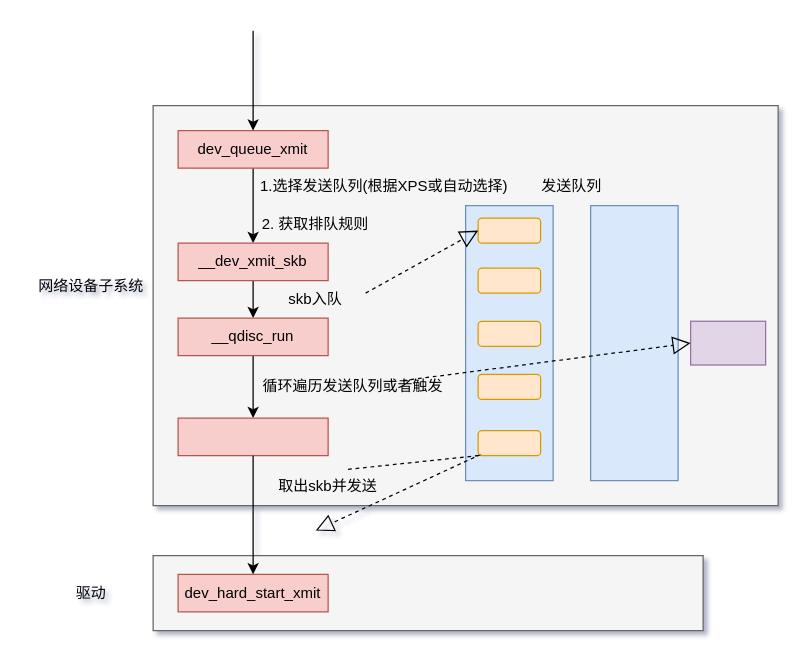
Image size: 808x660. Some labels were removed from this diagram. The centre of each missing label's shape, as x and y in pixels:
qdisc_restart: the point at 252,436
软中断: the point at 727,342
